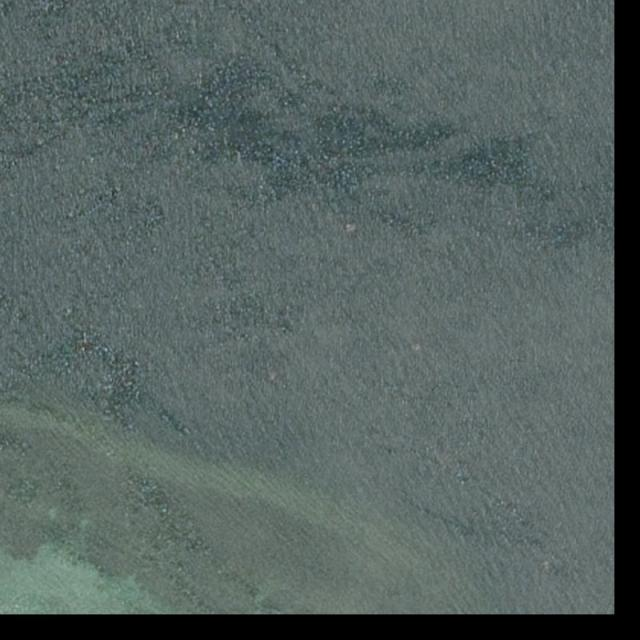ship: (342, 224, 358, 234), (269, 374, 280, 383), (413, 344, 422, 351)
